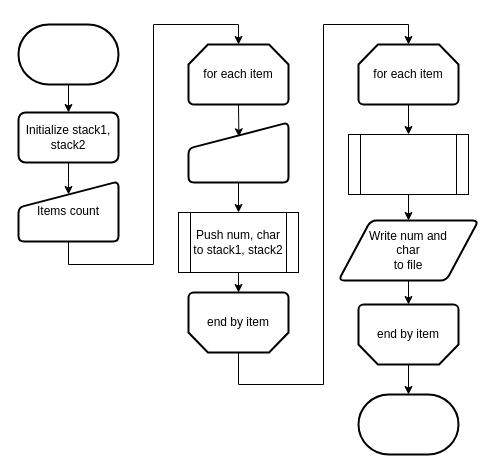
This 496x473 diagram has some shape labels left out. Here are the shapes that lost their labels. From the top down, the centre of each, then its label:
point (68, 54): Start
point (238, 152): num, char
point (408, 164): Pop from stack1, stack2 to num, char
point (408, 424): End
